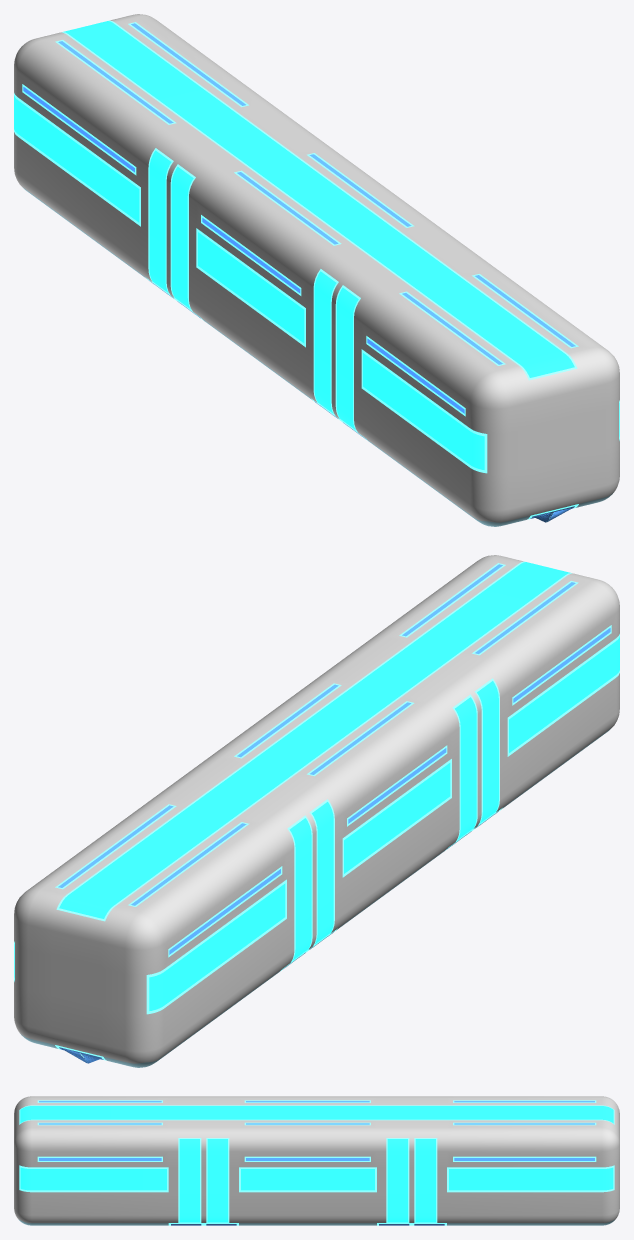
Rendered from trainmainbodyinterior.glb.
3 renders of one model, top to bottom at view 1: azimuth 30°, elevation 25°; view 2: azimuth 150°, elevation 25°; view 3: azimuth 270°, elevation 25°, orthographic. The views are drawn at different scales.
Parts seen in each view (by area): view 1: Train Body 0; view 2: Train Body 0; view 3: Train Body 0.
Part boxes in pixels (<box>): Train Body 0: <box>14,14,619,526</box>; Train Body 0: <box>14,555,619,1067</box>; Train Body 0: <box>14,1096,619,1225</box>.
Bounding box in the file's own units: 2.85 × 2.99 × 16.27.
